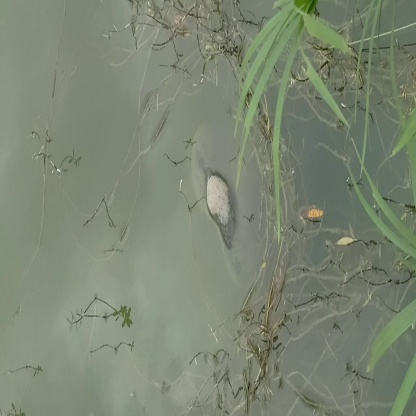grass: (241, 1, 332, 165)
